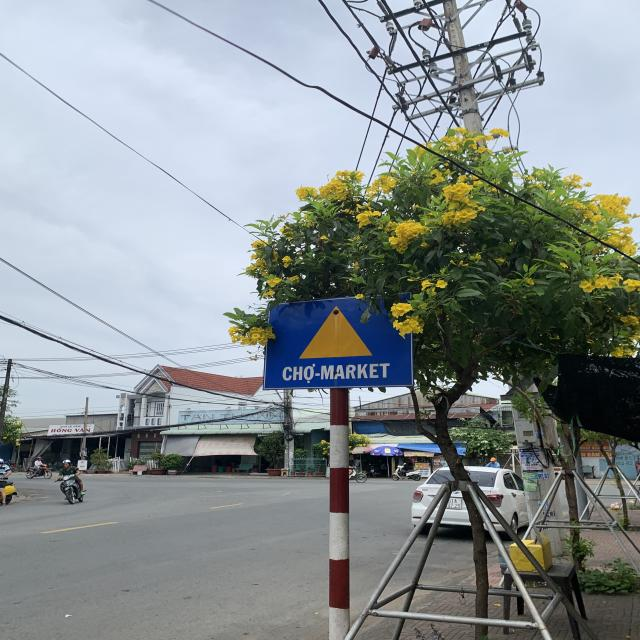Cho_Quay_Xe: (265, 297, 415, 388)
